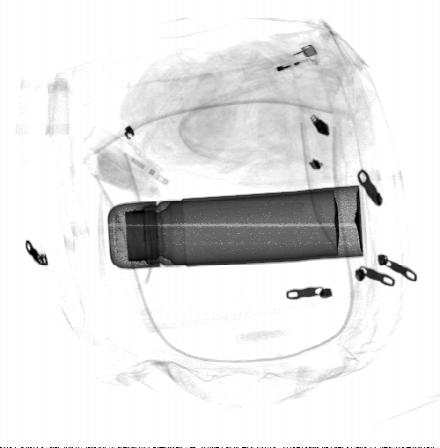Lighter: (242, 43, 321, 82)
